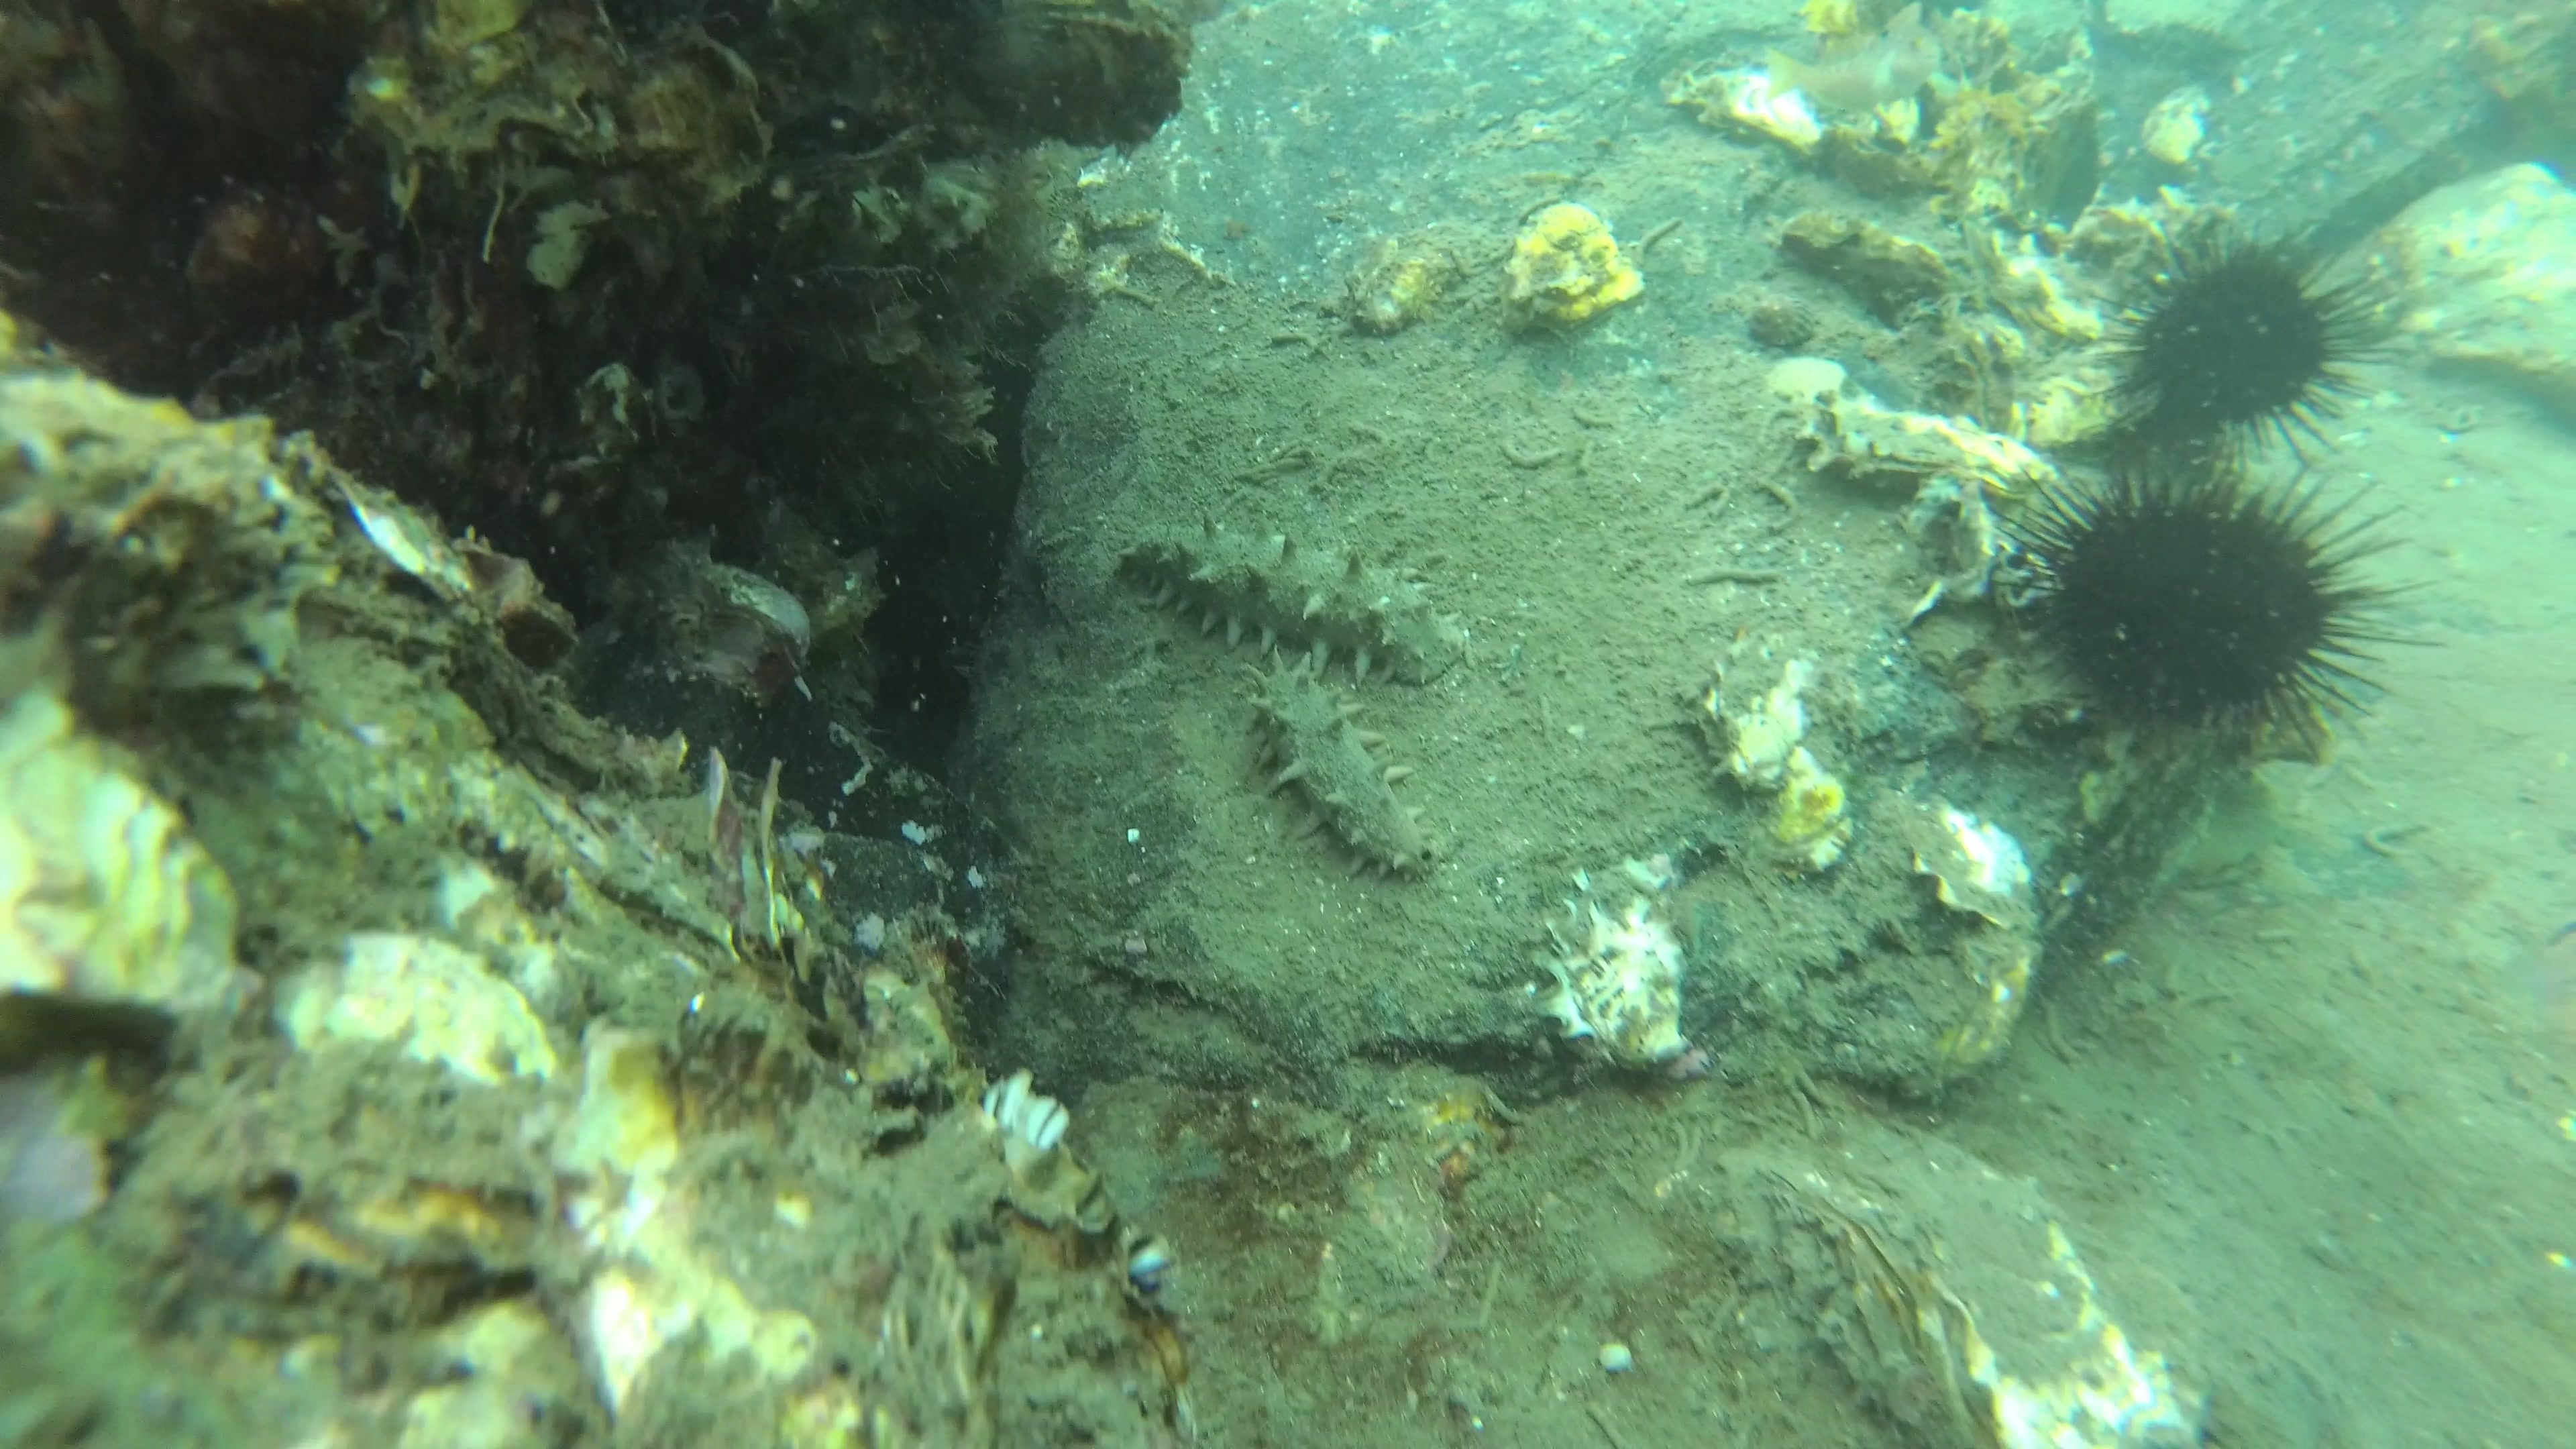echinus: (1987, 456, 2408, 768), (2095, 216, 2387, 451)
holothurian: (1111, 511, 1447, 685), (1244, 639, 1442, 893)
